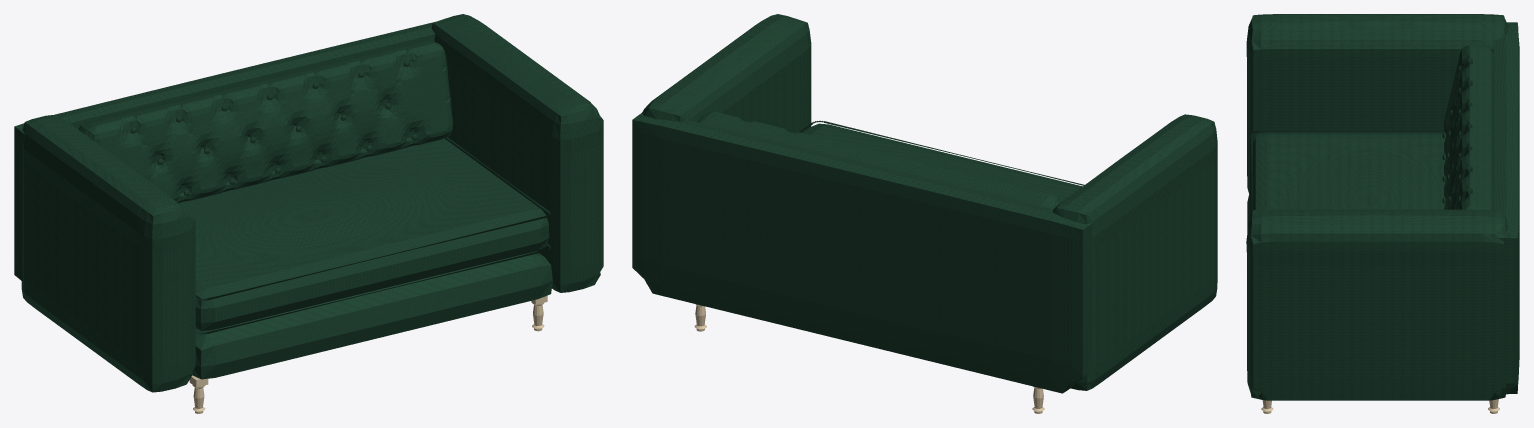
Rendered from BIB-SOF-2-seat.glb.
3 views of the same model, side by side, from view 1: azimuth 30°, elevation 25°; view 2: azimuth 150°, elevation 25°; view 3: azimuth 270°, elevation 25° (orthographic). The views are drawn at different scales.
Visible parts, largest first — view 1: seat:fabric:eyJwcmVzZXQiOiJ0YXJ0YW4iLCJ3YXJwIjoiZm9yZXN0Iiwi, arm-pad-l:fabric:eyJwcmVzZXQiOiJ0YXJ0YW4iLCJ3YXJwIjoiZm9yZXN, inside-back:fabric:eyJwcmVzZXQiOiJ0YXJ0YW4iLCJ3YXJwIjoiZm9yZ, arm-pad-r:fabric:eyJwcmVzZXQiOiJ0YXJ0YW4iLCJ3YXJwIjoiZm9yZXN, deck:fabric:eyJwcmVzZXQiOiJ0YXJ0YW4iLCJ3YXJwIjoiZm9yZXN0Iiwi, back-pad:fabric:eyJwcmVzZXQiOiJ0YXJ0YW4iLCJ3YXJwIjoiZm9yZXN0, seat:piping:pbr, inside-back:buttons:pbr; view 2: back-pad:fabric:eyJwcmVzZXQiOiJ0YXJ0YW4iLCJ3YXJwIjoiZm9yZXN0, arm-pad-l:fabric:eyJwcmVzZXQiOiJ0YXJ0YW4iLCJ3YXJwIjoiZm9yZXN, arm-pad-r:fabric:eyJwcmVzZXQiOiJ0YXJ0YW4iLCJ3YXJwIjoiZm9yZXN, inside-back:fabric:eyJwcmVzZXQiOiJ0YXJ0YW4iLCJ3YXJwIjoiZm9yZ, seat:fabric:eyJwcmVzZXQiOiJ0YXJ0YW4iLCJ3YXJwIjoiZm9yZXN0Iiwi; view 3: arm-pad-r:fabric:eyJwcmVzZXQiOiJ0YXJ0YW4iLCJ3YXJwIjoiZm9yZXN, arm-pad-l:fabric:eyJwcmVzZXQiOiJ0YXJ0YW4iLCJ3YXJwIjoiZm9yZXN, seat:fabric:eyJwcmVzZXQiOiJ0YXJ0YW4iLCJ3YXJwIjoiZm9yZXN0Iiwi, back-pad:fabric:eyJwcmVzZXQiOiJ0YXJ0YW4iLCJ3YXJwIjoiZm9yZXN0, inside-back:fabric:eyJwcmVzZXQiOiJ0YXJ0YW4iLCJ3YXJwIjoiZm9yZ, seat:piping:pbr, inside-back:buttons:pbr.
Boxes of the visible parts, left/top/right/bottom form: seat:fabric:eyJwcmVzZXQiOiJ0YXJ0YW4iLCJ3YXJwIjoiZm9yZXN0Iiwi: left=178, top=138, right=549, bottom=330; arm-pad-l:fabric:eyJwcmVzZXQiOiJ0YXJ0YW4iLCJ3YXJwIjoiZm9yZXN: left=21, top=115, right=195, bottom=392; inside-back:fabric:eyJwcmVzZXQiOiJ0YXJ0YW4iLCJ3YXJwIjoiZm9yZ: left=78, top=40, right=453, bottom=202; arm-pad-r:fabric:eyJwcmVzZXQiOiJ0YXJ0YW4iLCJ3YXJwIjoiZm9yZXN: left=431, top=14, right=603, bottom=292; deck:fabric:eyJwcmVzZXQiOiJ0YXJ0YW4iLCJ3YXJwIjoiZm9yZXN0Iiwi: left=192, top=251, right=552, bottom=379; back-pad:fabric:eyJwcmVzZXQiOiJ0YXJ0YW4iLCJ3YXJwIjoiZm9yZXN0: left=14, top=22, right=435, bottom=281; seat:piping:pbr: left=195, top=137, right=550, bottom=334; inside-back:buttons:pbr: left=130, top=60, right=417, bottom=195; back-pad:fabric:eyJwcmVzZXQiOiJ0YXJ0YW4iLCJ3YXJwIjoiZm9yZXN0: left=632, top=113, right=1093, bottom=393; arm-pad-l:fabric:eyJwcmVzZXQiOiJ0YXJ0YW4iLCJ3YXJwIjoiZm9yZXN: left=1053, top=114, right=1217, bottom=390; arm-pad-r:fabric:eyJwcmVzZXQiOiJ0YXJ0YW4iLCJ3YXJwIjoiZm9yZXN: left=642, top=14, right=811, bottom=283; inside-back:fabric:eyJwcmVzZXQiOiJ0YXJ0YW4iLCJ3YXJwIjoiZm9yZ: left=698, top=111, right=1060, bottom=208; seat:fabric:eyJwcmVzZXQiOiJ0YXJ0YW4iLCJ3YXJwIjoiZm9yZXN0Iiwi: left=803, top=123, right=1082, bottom=202; arm-pad-r:fabric:eyJwcmVzZXQiOiJ0YXJ0YW4iLCJ3YXJwIjoiZm9yZXN: left=1246, top=209, right=1508, bottom=400; arm-pad-l:fabric:eyJwcmVzZXQiOiJ0YXJ0YW4iLCJ3YXJwIjoiZm9yZXN: left=1246, top=14, right=1508, bottom=193; seat:fabric:eyJwcmVzZXQiOiJ0YXJ0YW4iLCJ3YXJwIjoiZm9yZXN0Iiwi: left=1249, top=132, right=1445, bottom=219; back-pad:fabric:eyJwcmVzZXQiOiJ0YXJ0YW4iLCJ3YXJwIjoiZm9yZXN0: left=1493, top=22, right=1519, bottom=394; inside-back:fabric:eyJwcmVzZXQiOiJ0YXJ0YW4iLCJ3YXJwIjoiZm9yZ: left=1444, top=45, right=1493, bottom=209; seat:piping:pbr: left=1251, top=130, right=1444, bottom=214; inside-back:buttons:pbr: left=1442, top=66, right=1460, bottom=203.
Bounding box in the file's own units: 1.7 × 0.78 × 0.9.
Materials: 12 (6 with a texture image).
